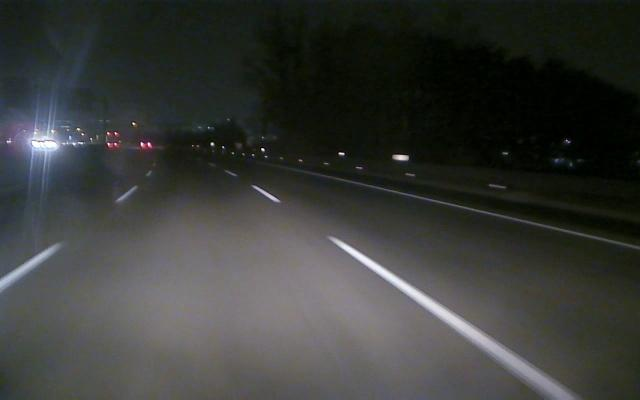lane: (252, 182, 583, 398), (343, 180, 640, 250), (1, 187, 135, 291)
